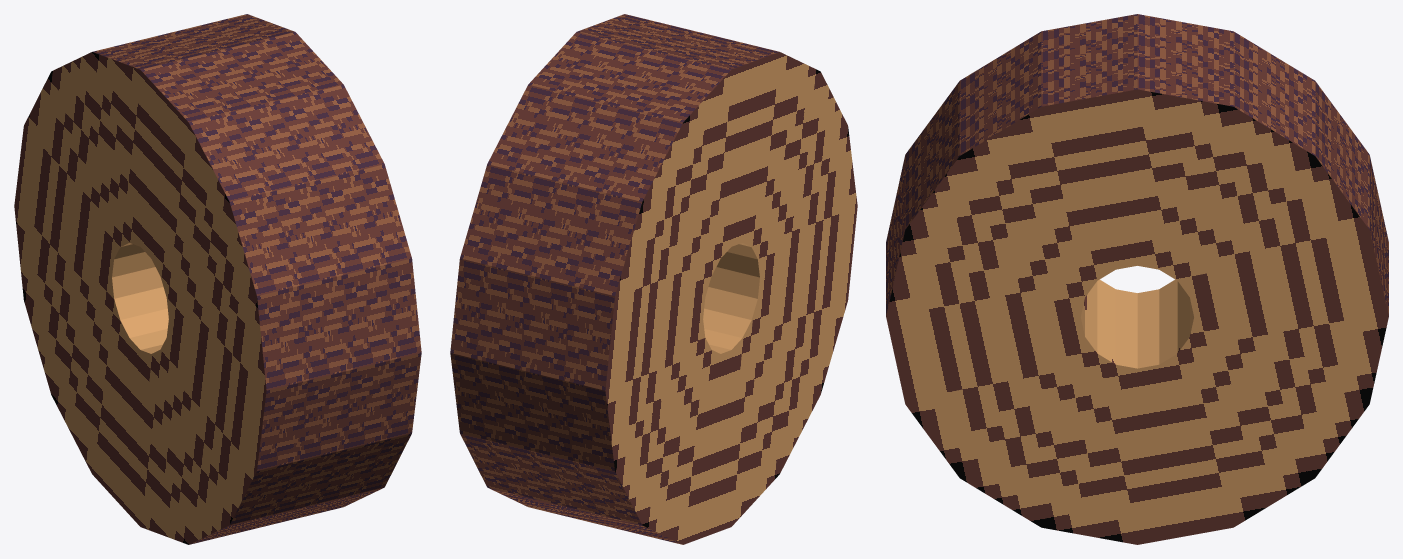
Rendered from wheel.glb.
3 views of the same model, side by side, from view 1: azimuth 30°, elevation 25°; view 2: azimuth 150°, elevation 25°; view 3: azimuth 270°, elevation 25° (orthographic).
Visible parts, largest first — view 1: Cylinder; view 2: Cylinder; view 3: Cylinder.
Part boxes in pixels (box(x1,y1,x2,y2)): Cylinder: box(14, 14, 421, 544); Cylinder: box(450, 14, 857, 544); Cylinder: box(886, 14, 1388, 544).
Size of the model in its own units: 0.213 by 0.6 by 0.6.
Materials: 2 (2 with a texture image).
